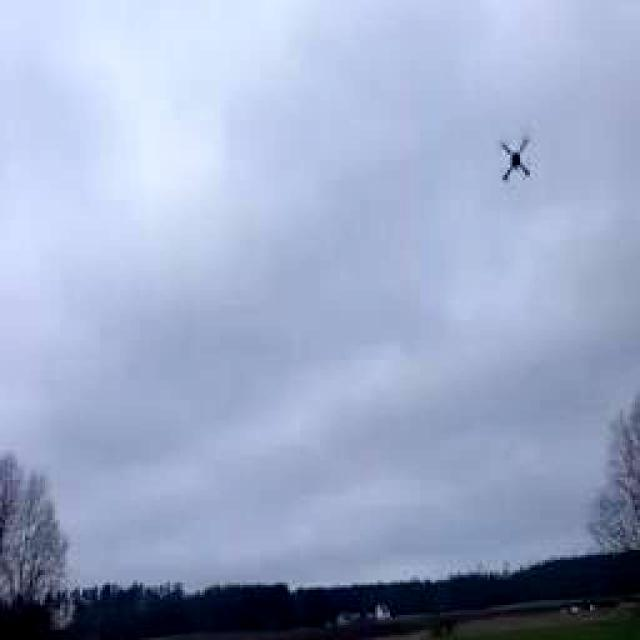bird: (480, 130, 530, 180)
